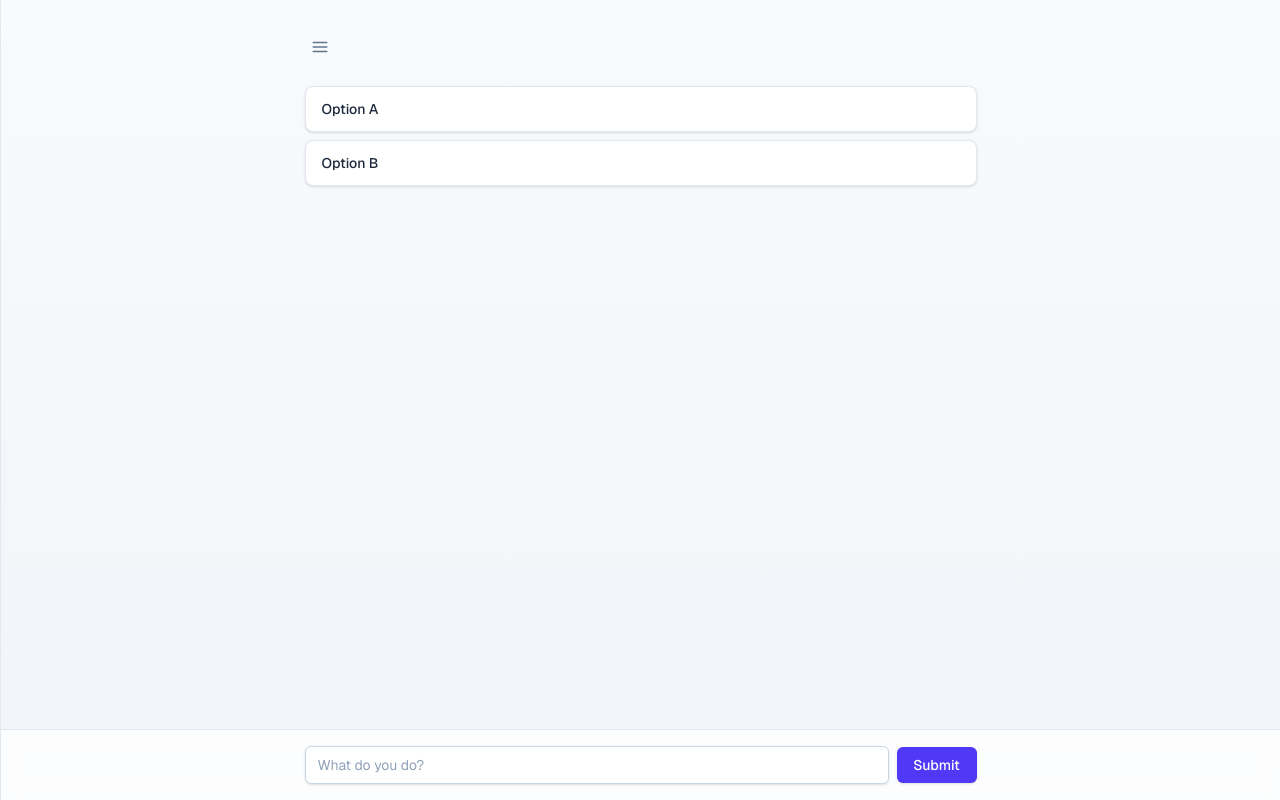
NarrativePage › clears choices immediately when a choice is clicked
// Click a choice
Click the button "Option A" at (350, 109), box 304,86 -> 976,132
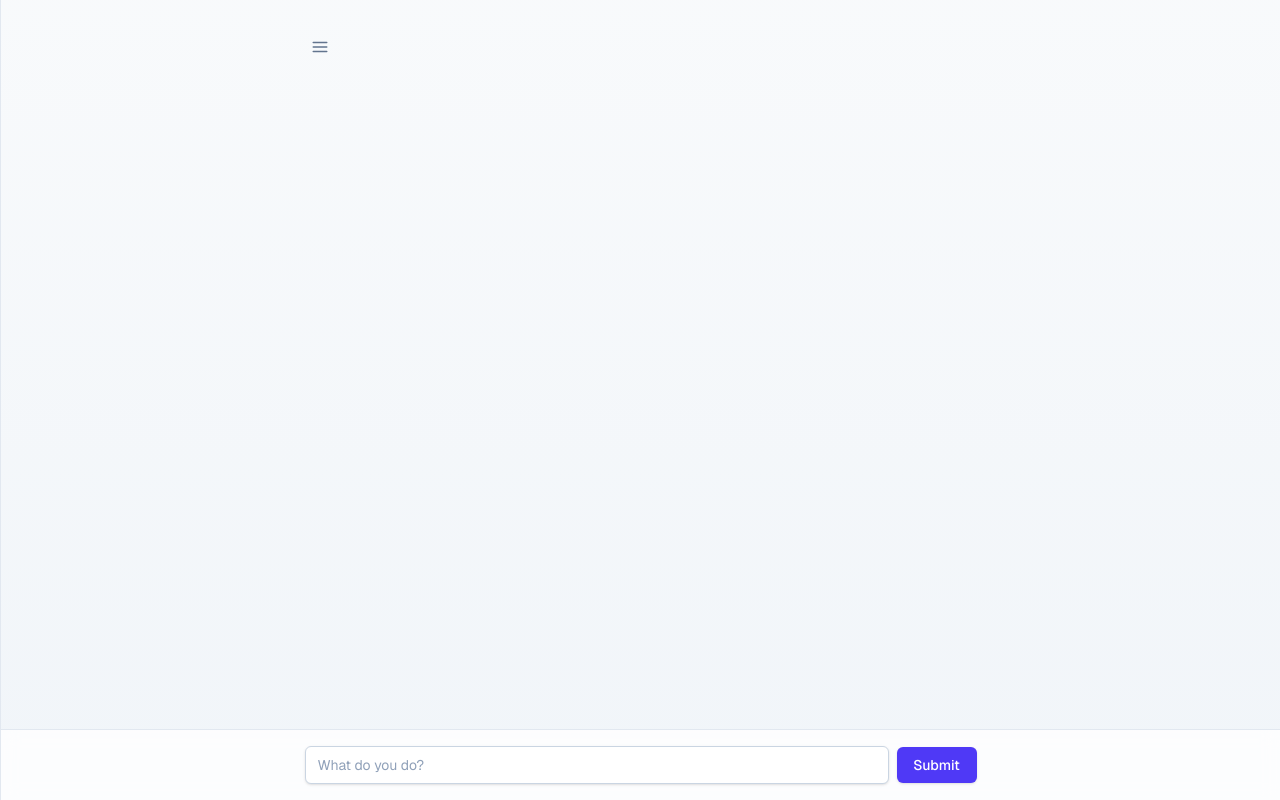
Check: the button "Option A" is gone
